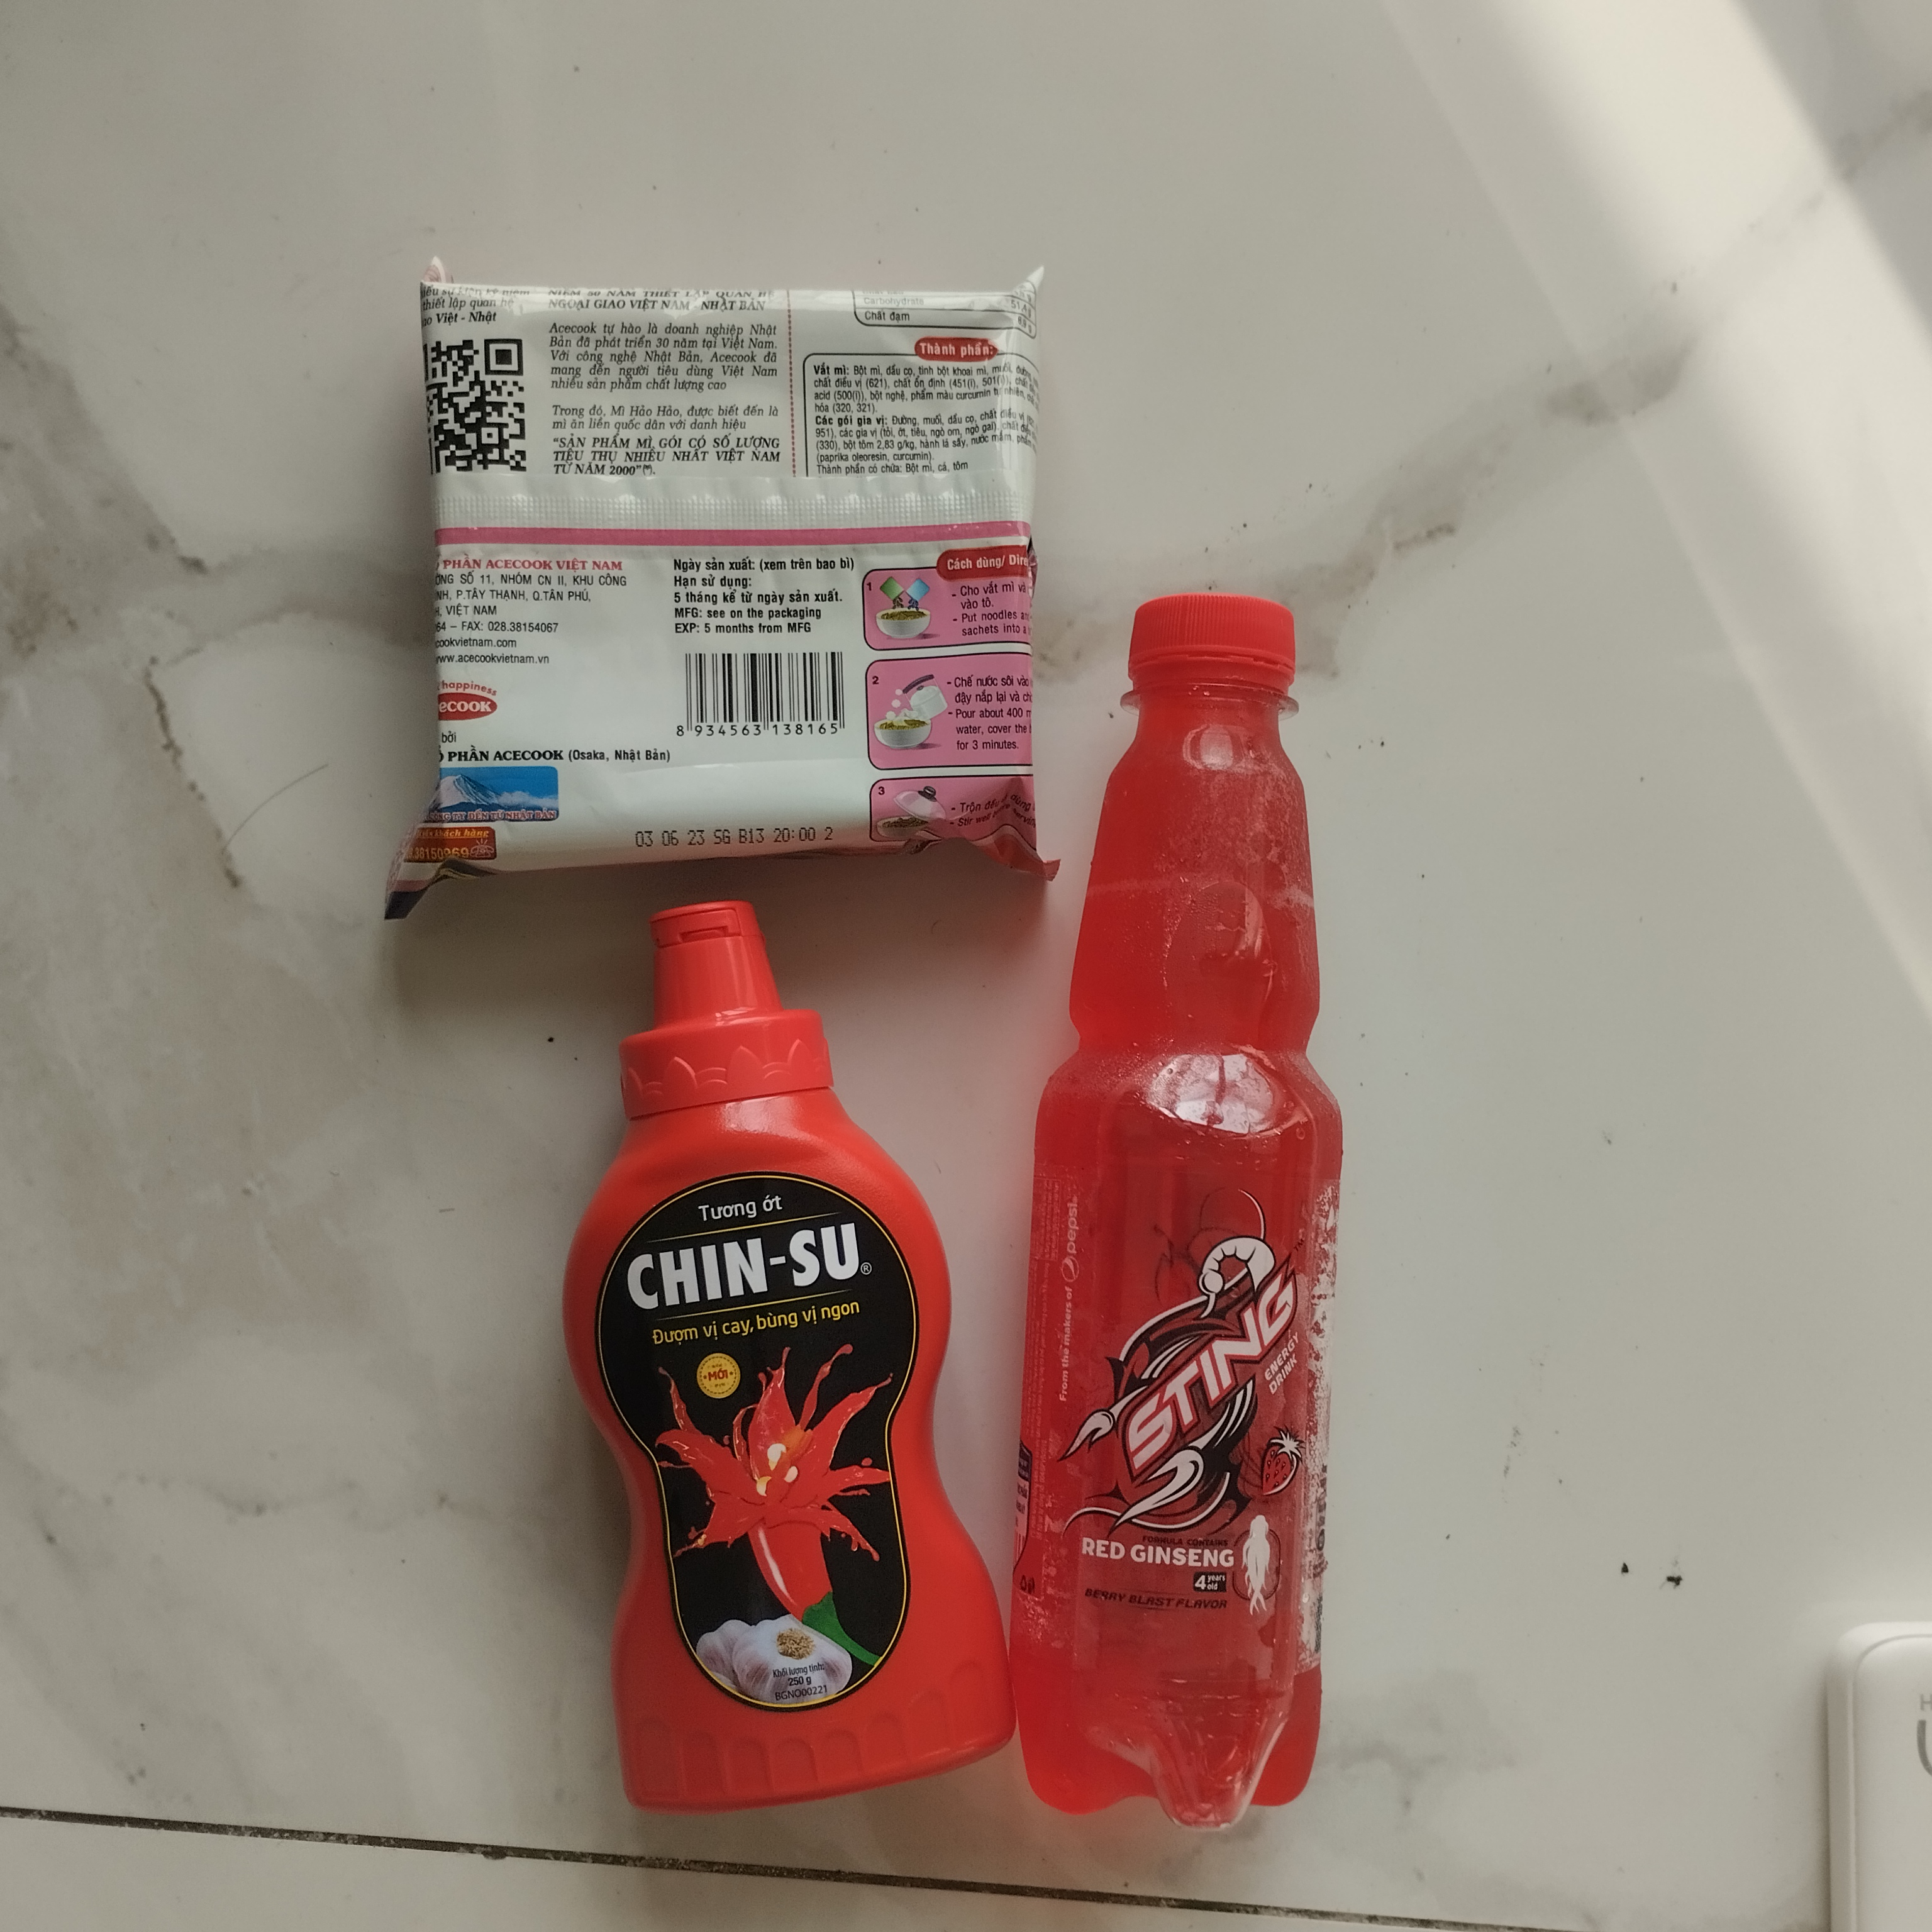Chinsu: (543, 885, 1026, 1844)
Haohao: (379, 239, 1065, 936)
Sting: (1005, 589, 1357, 1840)
